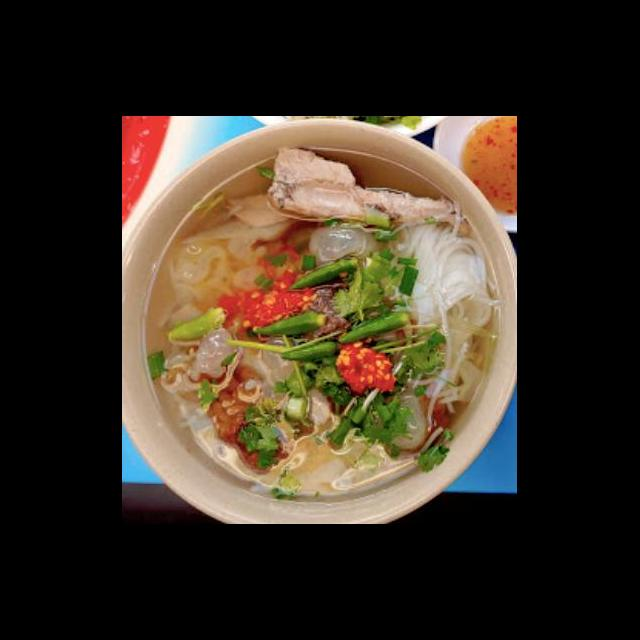bun: (372, 214, 514, 351)
bun ca: (138, 142, 518, 522)
ca: (262, 140, 462, 230)
